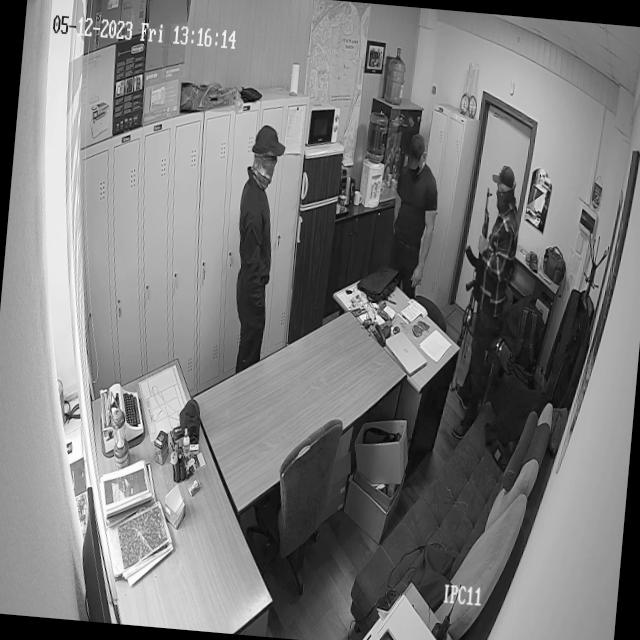gun: (458, 186, 495, 335)
person: (226, 125, 281, 379), (384, 130, 442, 282)
person with a gun: (446, 162, 521, 441)
